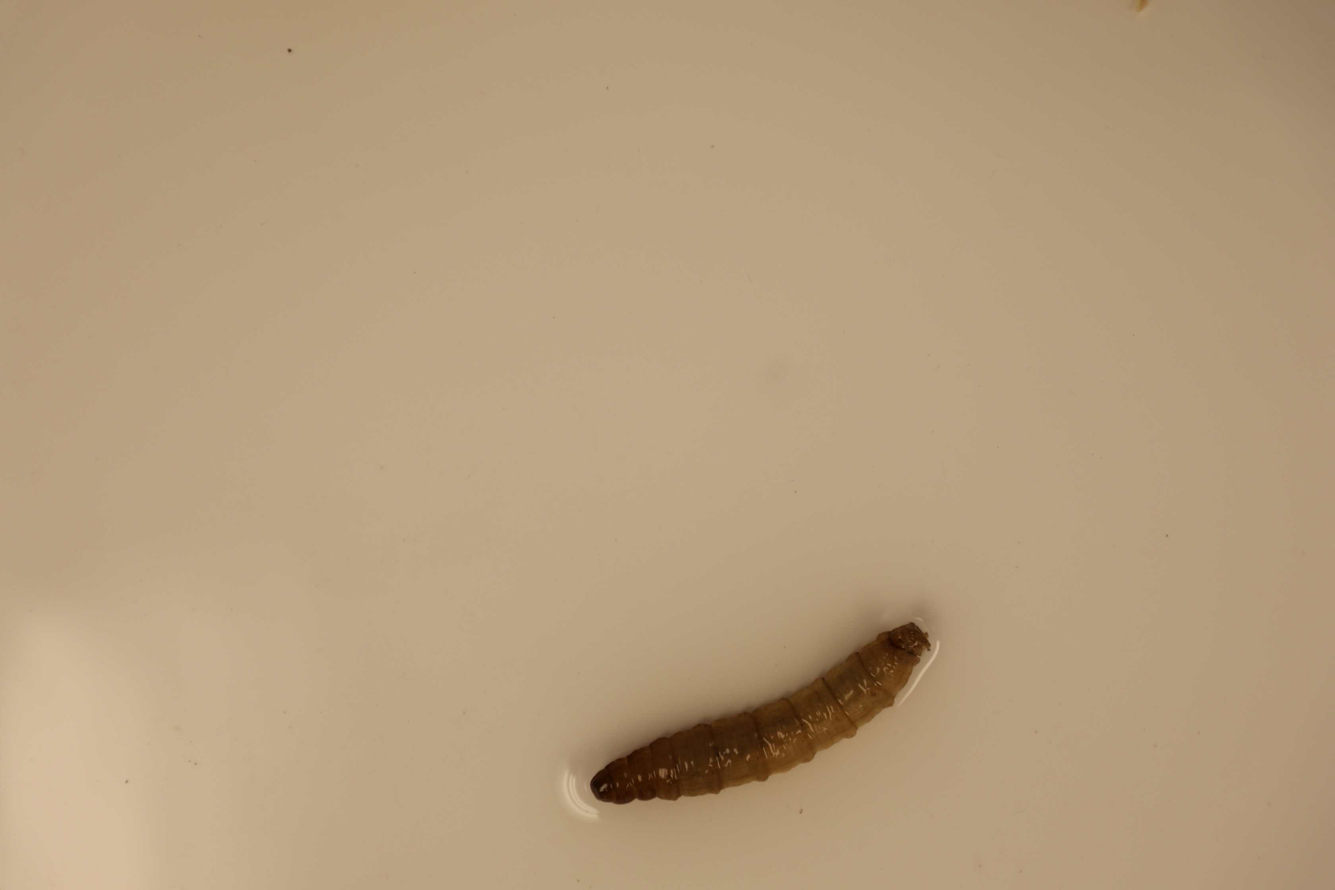Other: (590, 621, 928, 807)
